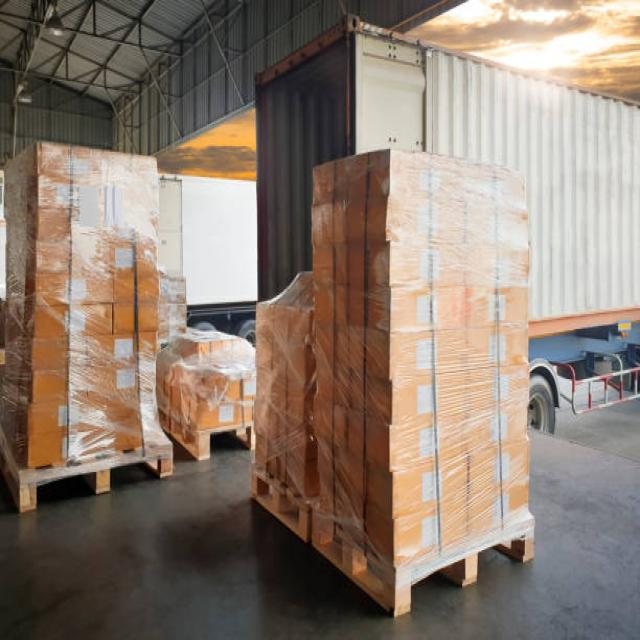Wooden-Pallets: (302, 500, 542, 631), (12, 441, 176, 525), (245, 463, 310, 543)
